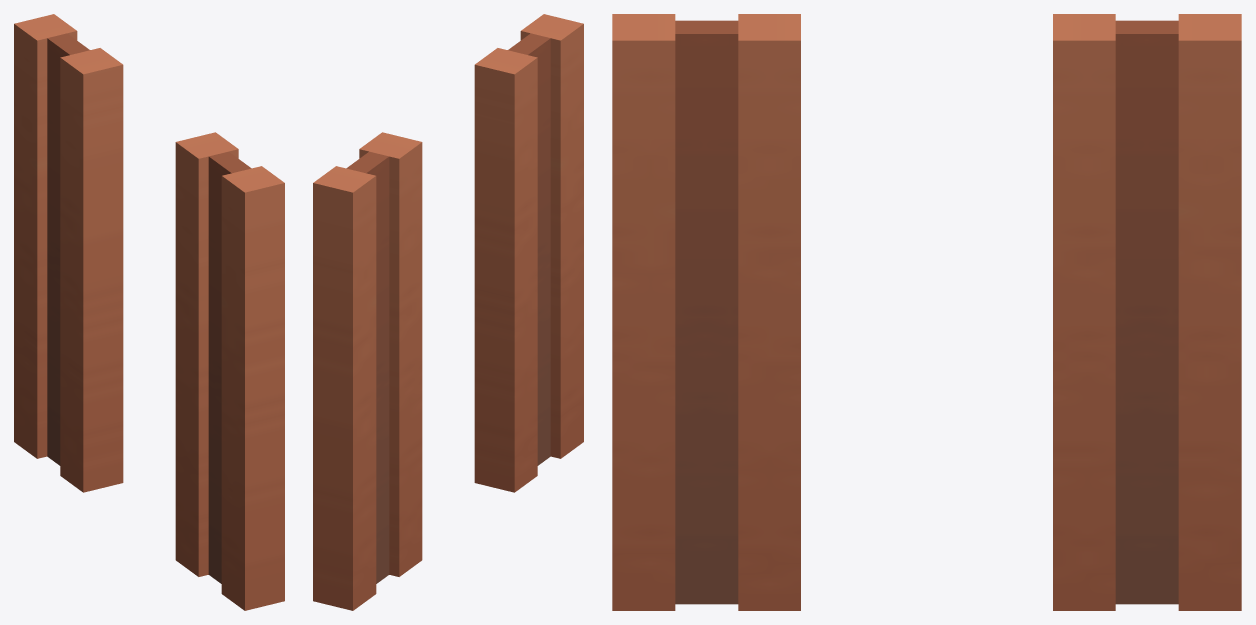
File: wallWoodDoorwayBase.fbx
The picture shows the model from 3 angles, left to right: view 1: azimuth 30°, elevation 25°; view 2: azimuth 150°, elevation 25°; view 3: azimuth 270°, elevation 25°; orthographic projection. The views are drawn at different scales.
Visible parts, largest first — view 1: wallWoodDoorwayBase; view 2: wallWoodDoorwayBase; view 3: wallWoodDoorwayBase.
Part boxes in pixels (box(x1,y1,x2,y2)): wallWoodDoorwayBase: box(14, 14, 284, 610); wallWoodDoorwayBase: box(313, 14, 583, 610); wallWoodDoorwayBase: box(612, 14, 1241, 610).
Bounding box in the file's own units: 0.1 × 1 × 1.
